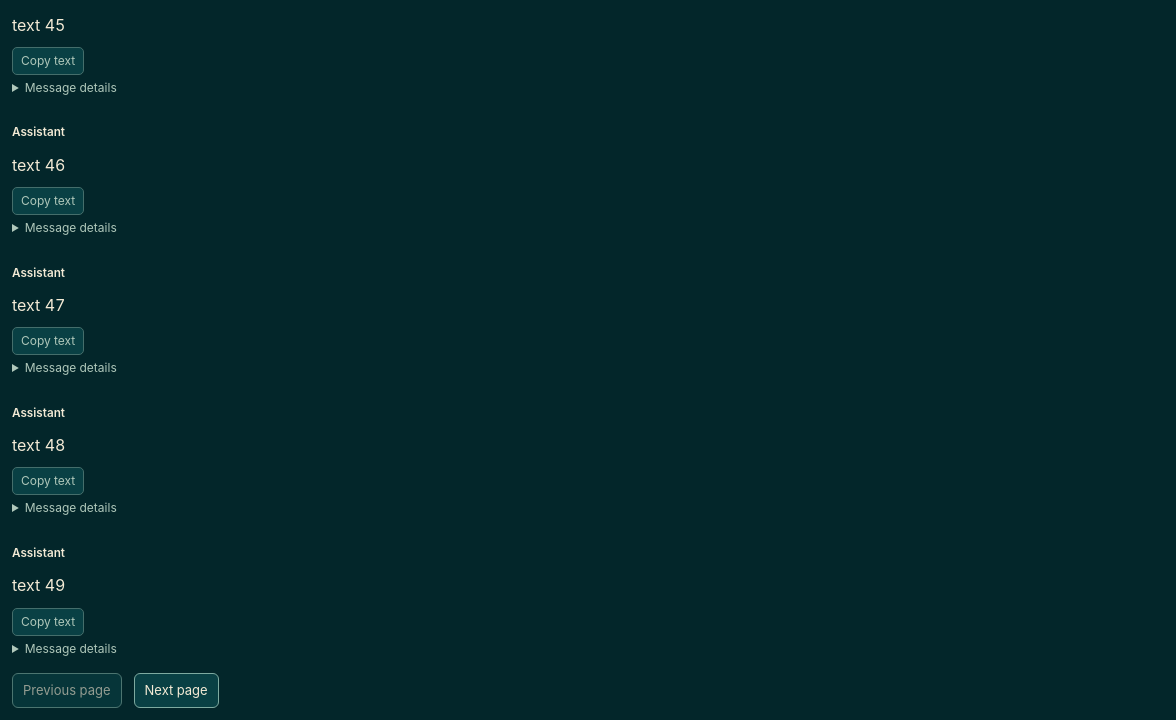
Test: retained request inspection › bounds the initial page, replaces it on navigation, and rereads exact return offsets
The width and height of the screenshot is (1176, 720).
(page scrolled)
Expected: the button "Previous page" is disabled, [12, 673, 122, 708]
Click the button "Next page" at (176, 690), box [134, 673, 219, 708]
(page scrolled)
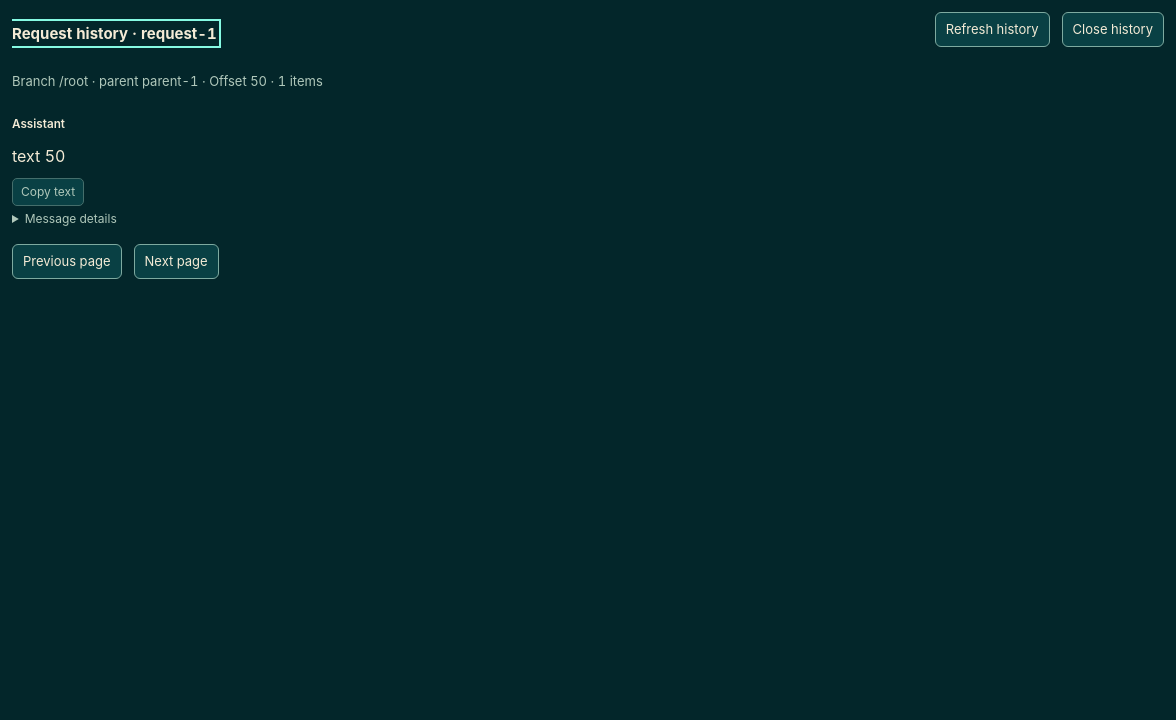
Expected: the button "Refresh history" is enabled, [935, 12, 1050, 47]
Now the number of list items is 1, box [12, 117, 117, 226]
Now the list named "Retained request items" shows "text 50", box [12, 146, 65, 166]
Click the button "Next page" at (176, 261), box [134, 244, 219, 279]
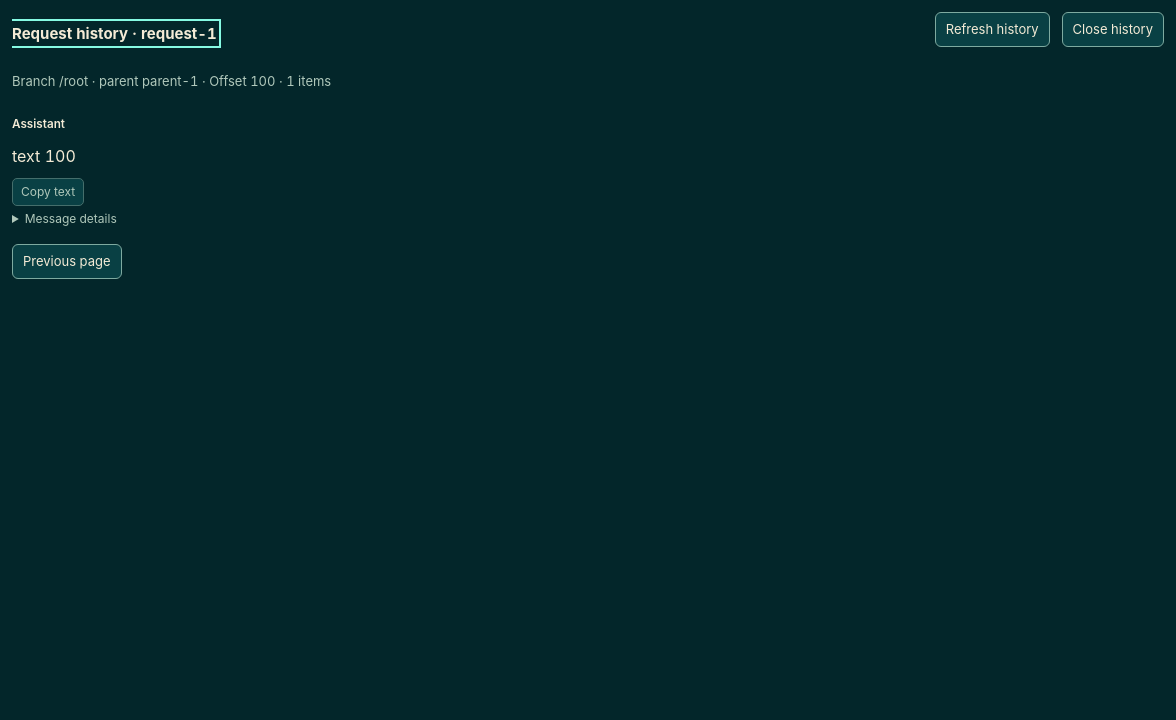
Expected: the button "Refresh history" is enabled, [935, 12, 1050, 47]
Now the number of list items is 1, box [12, 117, 117, 226]
Now the button "Next page" is gone
Click the button "Previous page" at (67, 261), box [12, 244, 122, 279]
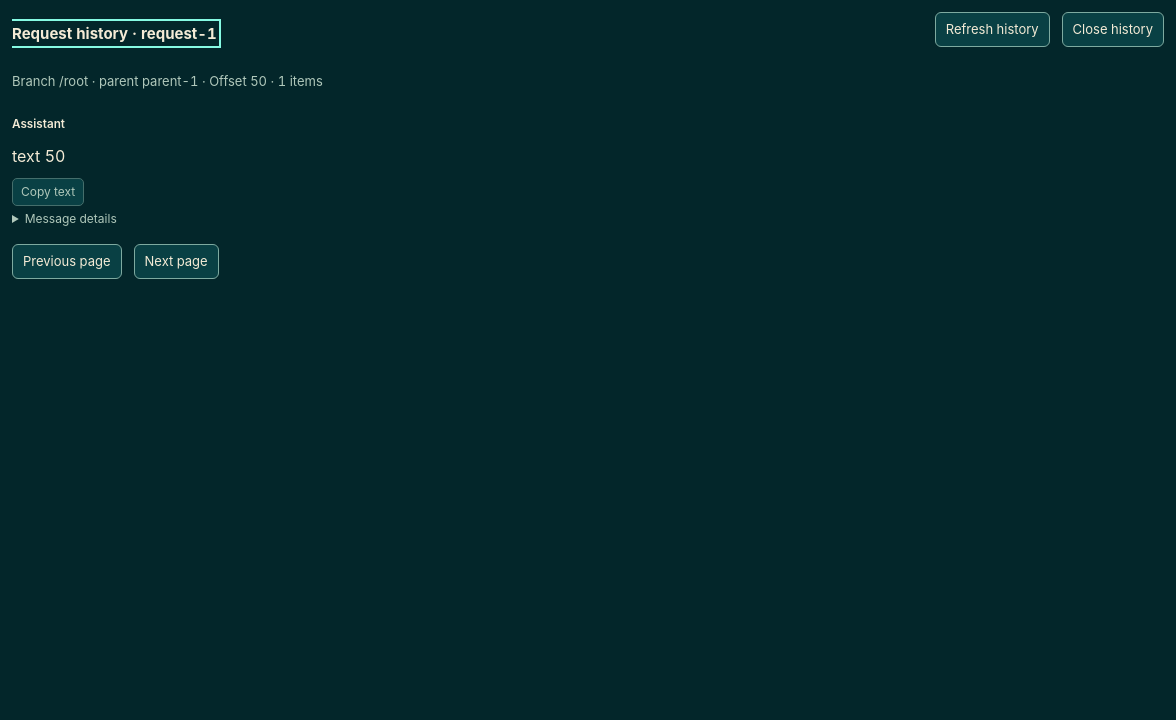
Expected: the button "Refresh history" is enabled, [935, 12, 1050, 47]
Now the list named "Retained request items" shows "text 50", box [12, 146, 65, 166]
Click the button "Previous page" at (67, 261), box [12, 244, 122, 279]
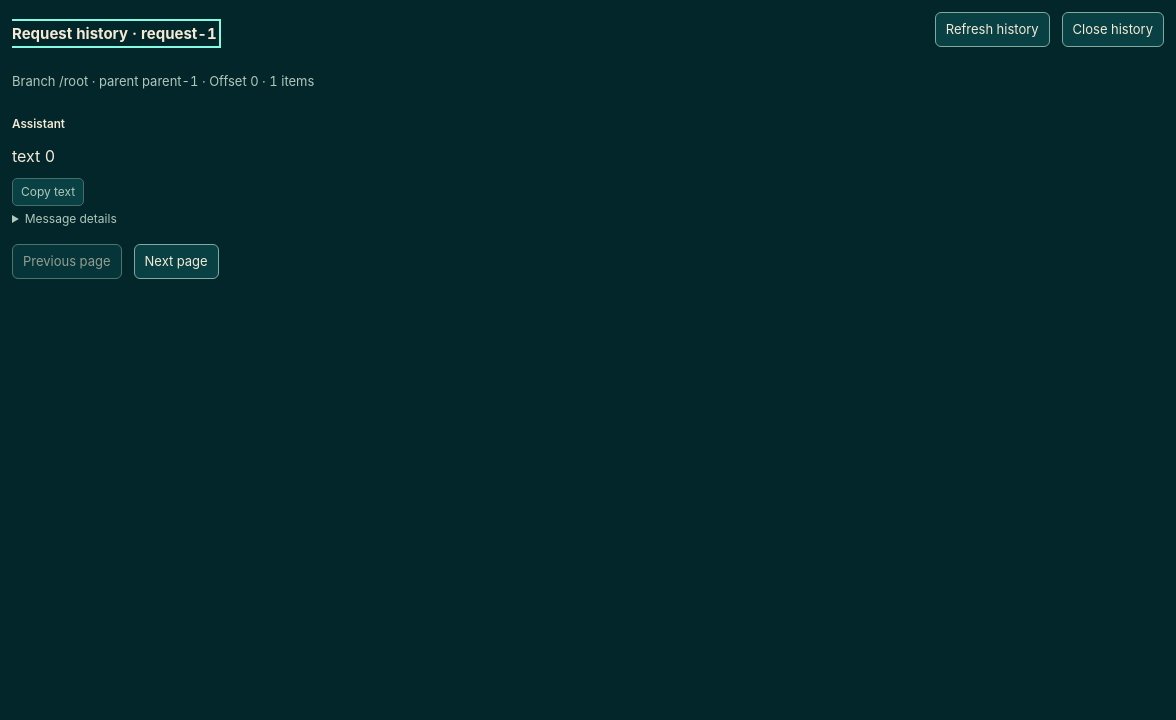
Expected: the button "Refresh history" is enabled, [935, 12, 1050, 47]
Now the element named "Text item 0" is shown, box [12, 146, 55, 166]
